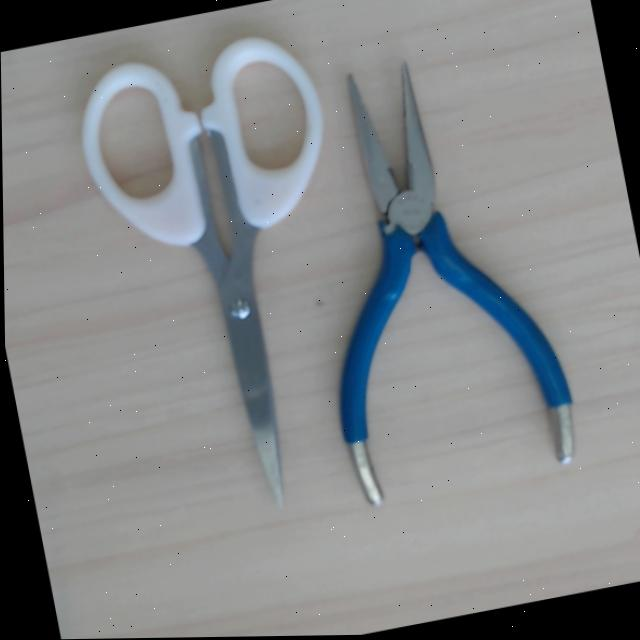Tang-Jepit-Biru: (268, 44, 584, 508)
